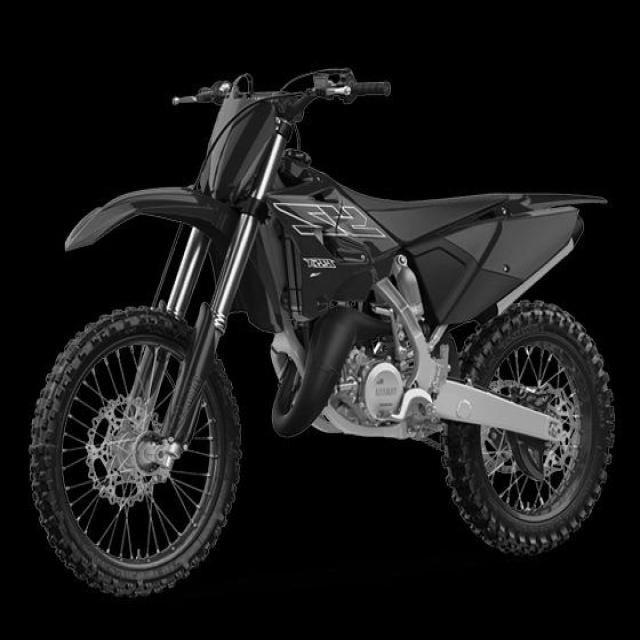Motorcycle: (30, 69, 615, 596)
